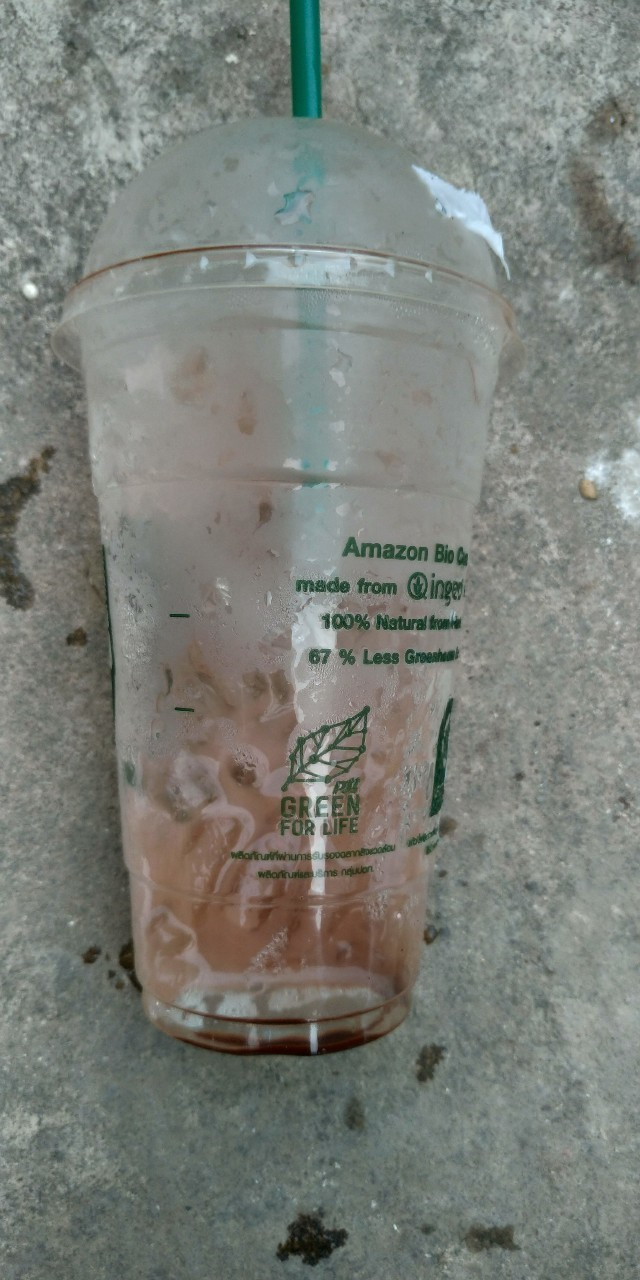PlasticCup: (58, 115, 513, 1063)
